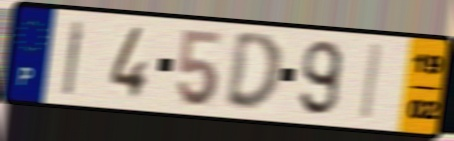4: (107, 24, 151, 102)
5: (175, 25, 225, 109)
9: (298, 39, 345, 119)
D: (222, 31, 285, 116)
I: (357, 41, 386, 123), (60, 18, 88, 99)
